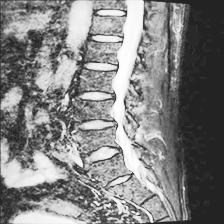disc: (78, 143, 124, 166), (94, 1, 133, 21), (103, 170, 136, 193), (82, 58, 119, 74), (87, 30, 126, 44)
hdisc: (71, 83, 117, 107), (74, 114, 120, 135)
